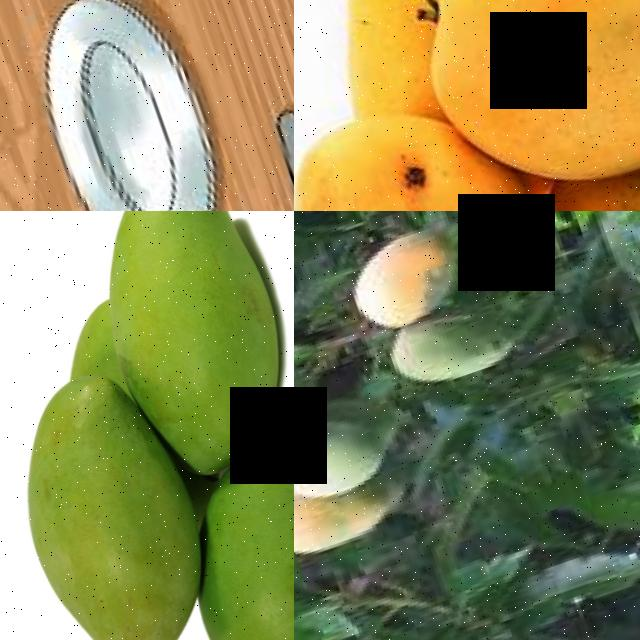mango: (62, 211, 294, 474), (0, 363, 220, 640), (400, 0, 640, 205), (294, 82, 549, 211), (168, 434, 294, 640), (336, 220, 474, 338), (383, 292, 522, 396), (294, 402, 390, 514), (294, 481, 400, 568), (294, 358, 327, 453)
